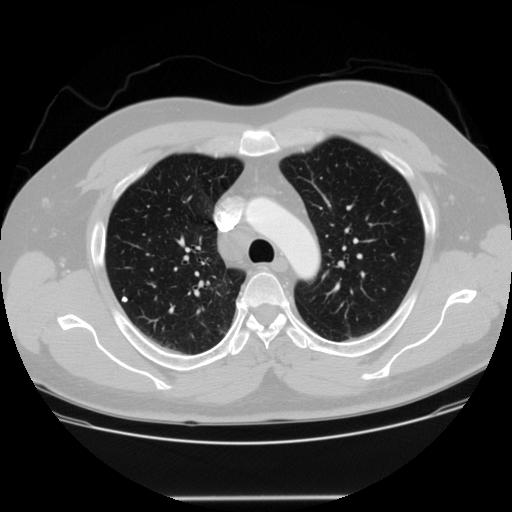nodule: (119, 293, 131, 305)
